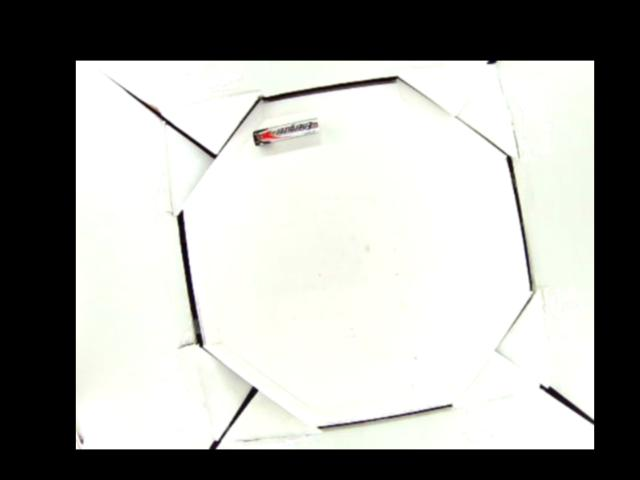Battery: (252, 116, 321, 147)
